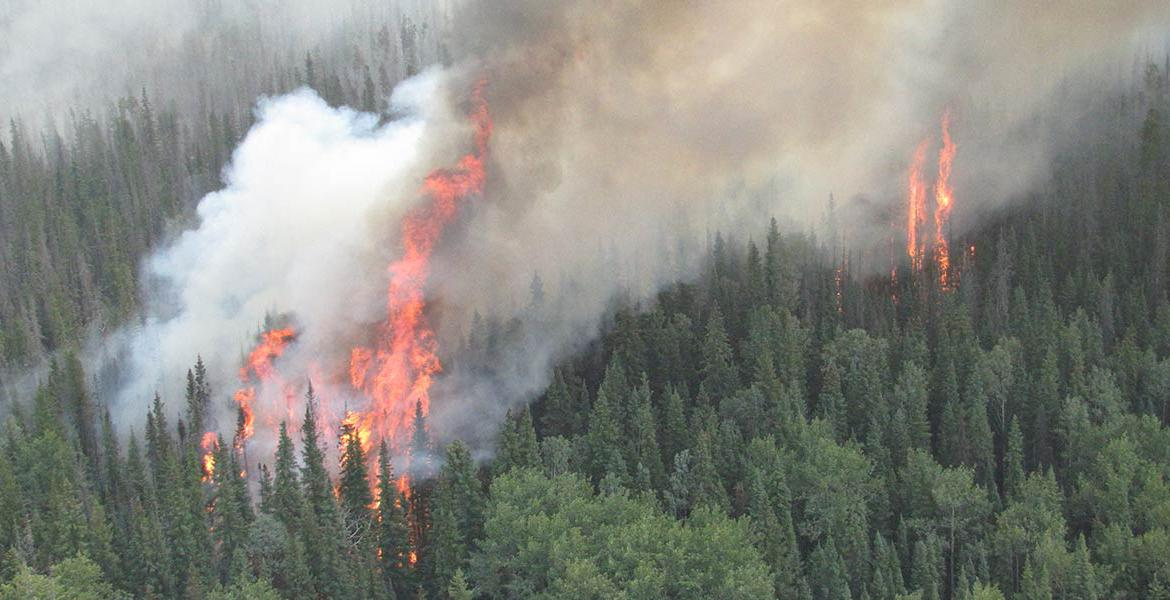fire: (338, 97, 498, 522), (181, 295, 325, 476), (883, 91, 975, 282)
